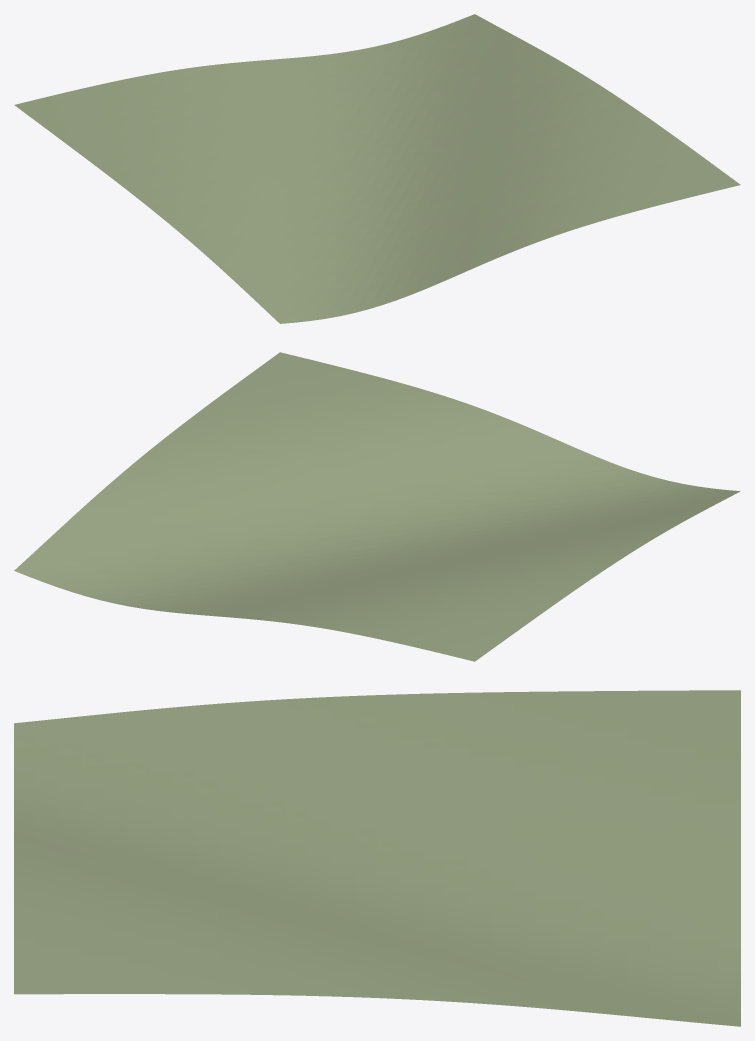
The model's file is desert-12-11.glb.
3 renders of one model, top to bottom at view 1: azimuth 30°, elevation 25°; view 2: azimuth 150°, elevation 25°; view 3: azimuth 270°, elevation 25°, orthographic. The views are drawn at different scales.
Parts seen in each view (by area): view 1: desert-12-11; view 2: desert-12-11; view 3: desert-12-11.
Part boxes in pixels (x1,y1,x2,y2): desert-12-11: (14,14,740,323); desert-12-11: (14,352,740,661); desert-12-11: (14,690,740,1026).
Bounding box in the file's own units: 512 × 35.99 × 512.
